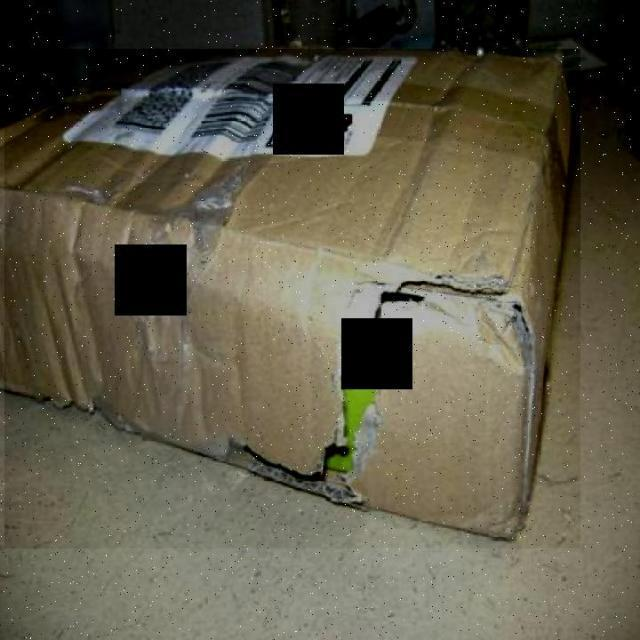box: (4, 49, 580, 548)
